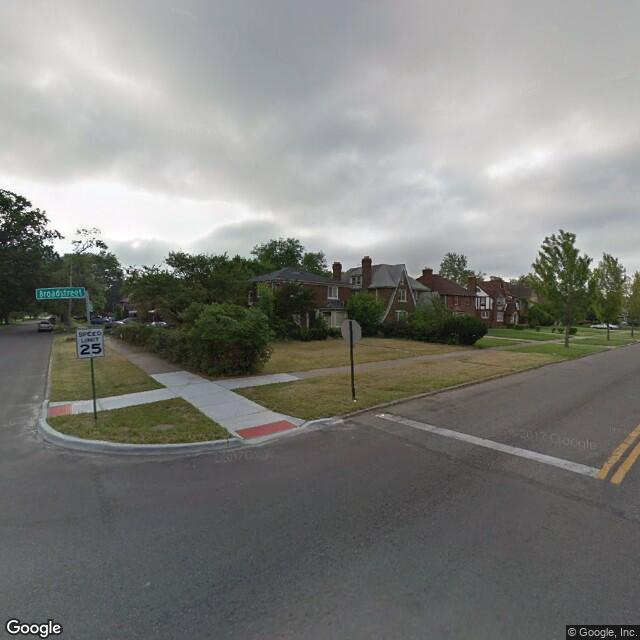litter: (372, 411, 389, 418), (349, 399, 356, 403)
